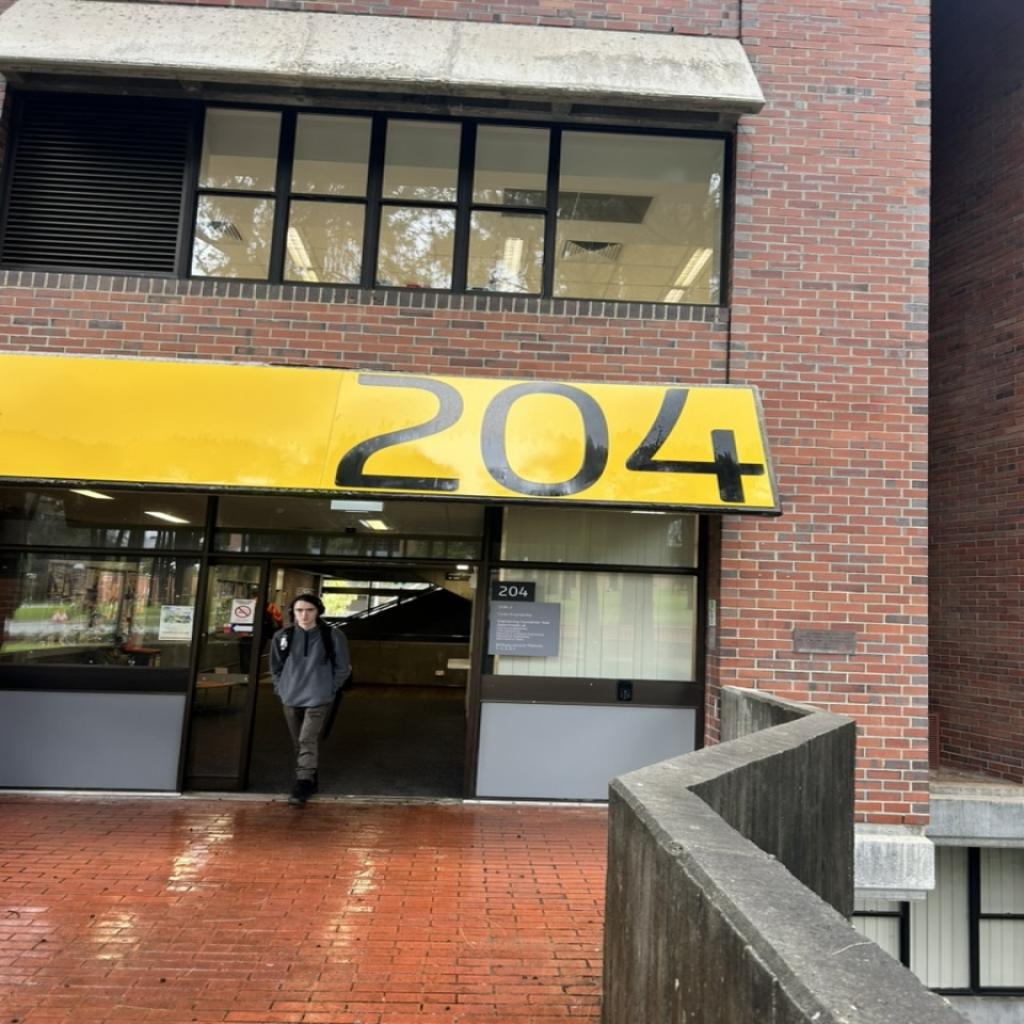BuildingCodes: (332, 364, 768, 508)
